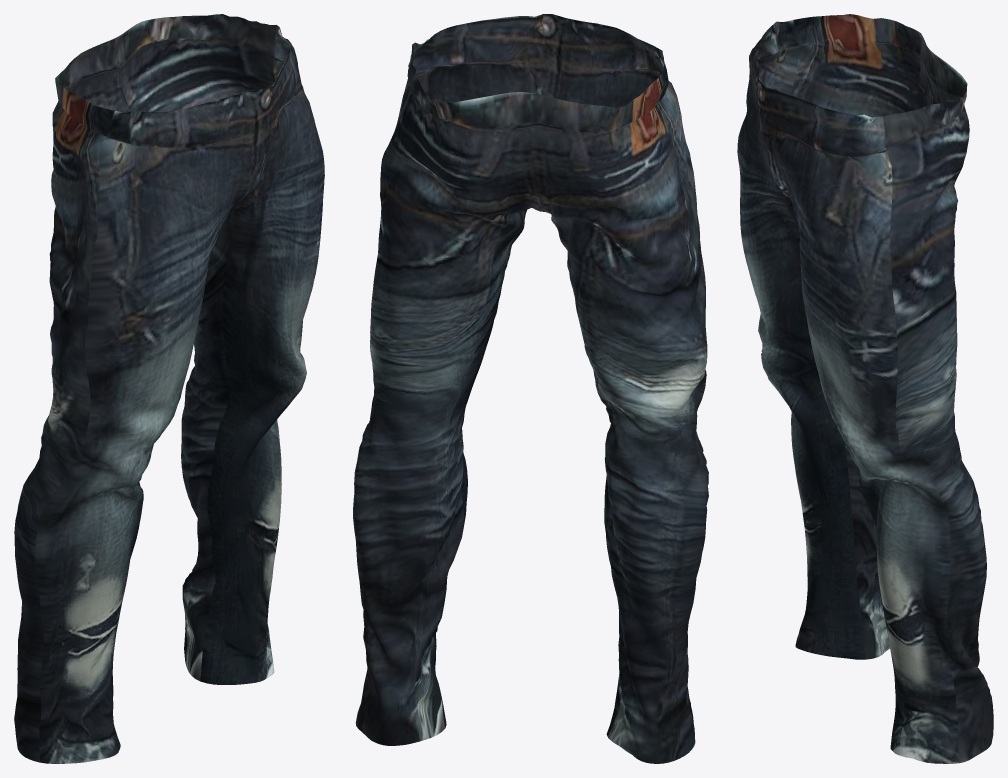
File: pants-transformed.glb
3 views of the same model, side by side, from view 1: azimuth 30°, elevation 25°; view 2: azimuth 150°, elevation 25°; view 3: azimuth 270°, elevation 25° (orthographic). The views are drawn at different scales.
Visible parts, largest first — view 1: Jeans.003; view 2: Jeans.003; view 3: Jeans.003.
Part boxes in pixels (left/top/right/bottom): Jeans.003: left=14, top=14, right=324, bottom=763; Jeans.003: left=353, top=14, right=708, bottom=763; Jeans.003: left=737, top=14, right=993, bottom=763.
Bounding box in the file's own units: 0.447 × 0.9303 × 0.336.
1 material, 1 textured.
